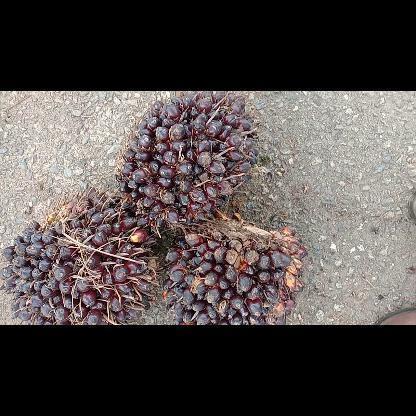TBS mentah: (0, 191, 156, 324), (117, 91, 256, 227), (164, 216, 304, 324)
